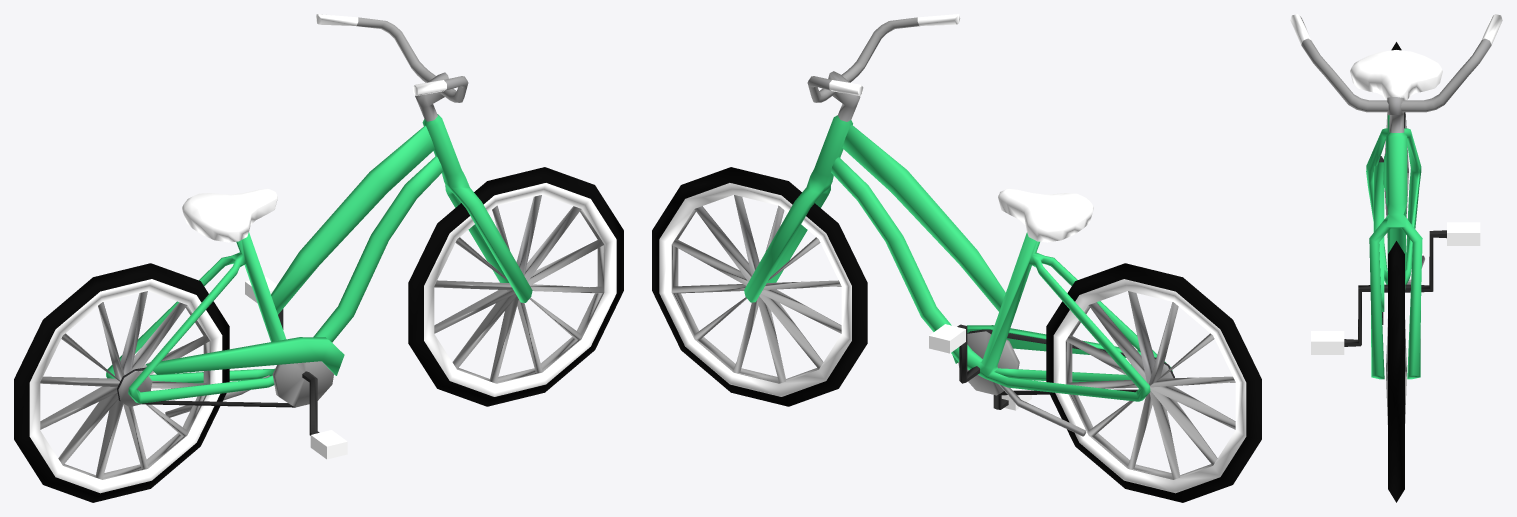
File: BicycleBeachCruiserTeal.glb
3 views of the same model, side by side, from view 1: azimuth 30°, elevation 25°; view 2: azimuth 150°, elevation 25°; view 3: azimuth 270°, elevation 25° (orthographic). The views are drawn at different scales.
Visible parts, largest first — view 1: BicycleBeachCruiserTeal; view 2: BicycleBeachCruiserTeal; view 3: BicycleBeachCruiserTeal.
Part boxes in pixels (<box>): BicycleBeachCruiserTeal: <box>14,14,623,502</box>; BicycleBeachCruiserTeal: <box>652,14,1261,502</box>; BicycleBeachCruiserTeal: <box>1290,14,1502,502</box>.
Bounding box in the file's own units: 2.47 × 1.49 × 0.7197.
1 material, 1 textured.
